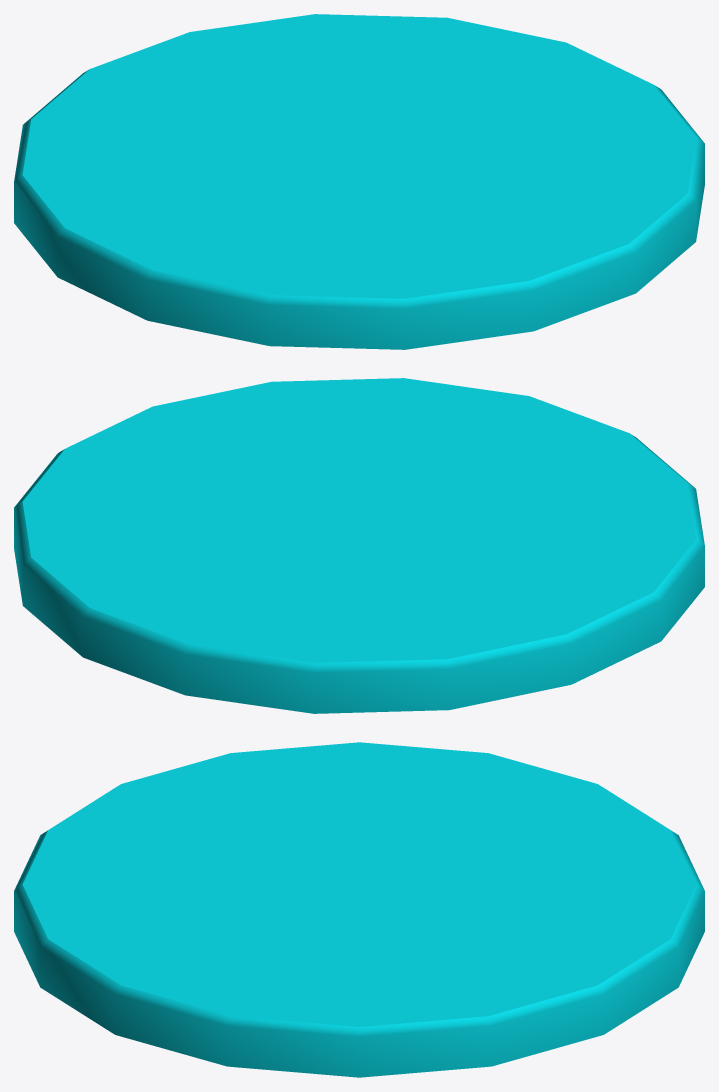
The model's file is Tombino_chiuso.fbx.
3 views of the same model, one above another, from view 1: azimuth 30°, elevation 25°; view 2: azimuth 150°, elevation 25°; view 3: azimuth 270°, elevation 25° (orthographic).
Visible parts, largest first — view 1: tombino_chiuso; view 2: tombino_chiuso; view 3: tombino_chiuso.
Part boxes in pixels (x1,y1,x2,y2): tombino_chiuso: [14, 14, 704, 349]; tombino_chiuso: [14, 378, 704, 713]; tombino_chiuso: [14, 742, 704, 1077].
Bounding box in the file's own units: 79.96 × 6 × 79.96.
